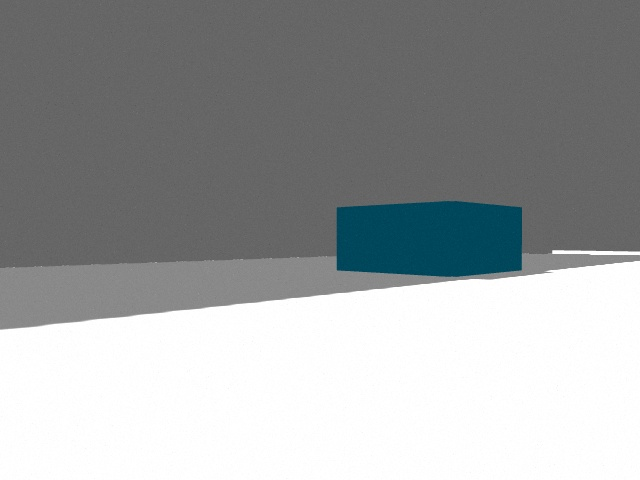blue_drop_zone: (337, 201, 522, 277)
